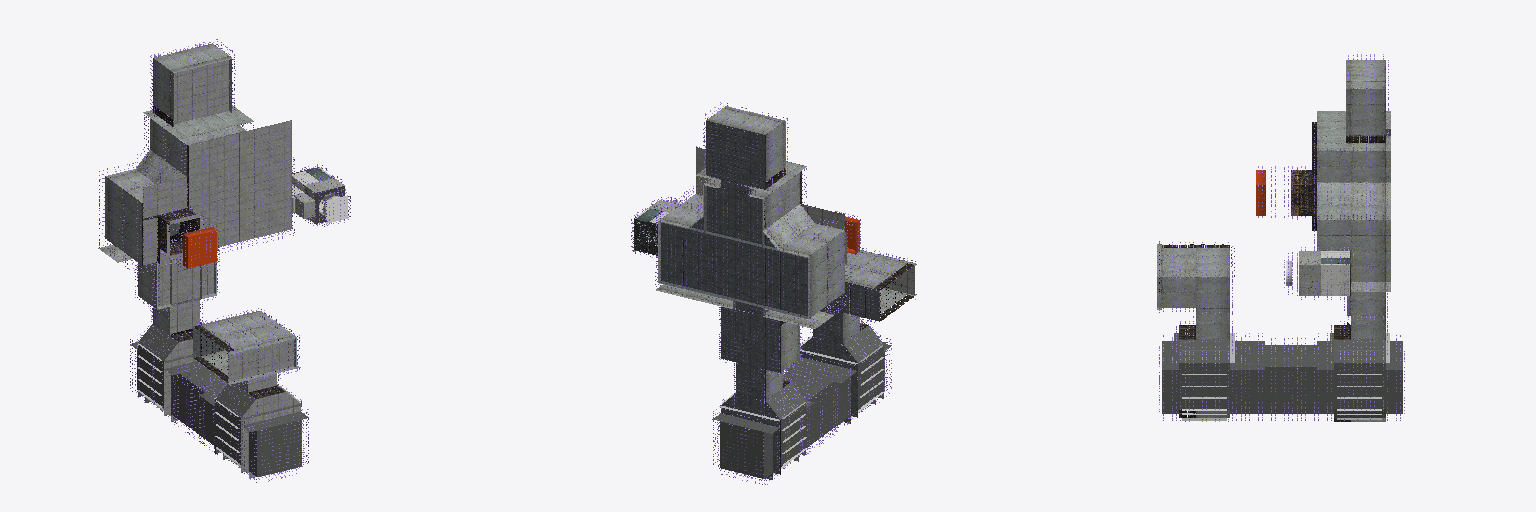
3 views of the same model, side by side, from view 1: azimuth 30°, elevation 25°; view 2: azimuth 150°, elevation 25°; view 3: azimuth 270°, elevation 25° (orthographic).
Visible parts, largest first — view 1: world.worldspawn.Brush_397, world.worldspawn.Brush_138, world.worldspawn.Brush_175, world.worldspawn.Brush_2, world.worldspawn.Brush_128, world.worldspawn.Brush_6, world.worldspawn.Brush_142, world.worldspawn.Brush_8, world.worldspawn.Brush_230, world.worldspawn.Brush_135, world.worldspawn.Brush_126, world.worldspawn.Brush_213 (+16 smaller); view 2: world.worldspawn.Brush_91, world.worldspawn.Brush_143, world.worldspawn.Brush_154, world.worldspawn.Brush_95, world.worldspawn.Brush_178, world.worldspawn.Brush_6, world.worldspawn.Brush_189, world.worldspawn.Brush_142, world.worldspawn.Brush_8, world.worldspawn.Brush_187, world.worldspawn.Brush_135, world.worldspawn.Brush_197 (+17 smaller); view 3: world.worldspawn.Brush_10, world.worldspawn.Brush_137, world.worldspawn.Brush_169, world.worldspawn.Brush_183, world.worldspawn.Brush_251, world.worldspawn.Brush_262, world.worldspawn.Brush_4, world.worldspawn.Brush_2, world.worldspawn.Brush_142, world.worldspawn.Brush_199, world.worldspawn.Brush_13, world.worldspawn.Brush_166 (+21 smaller).
Boxes of the visible parts, <box> form: world.worldspawn.Brush_397: <box>187,120,291,247</box>; world.worldspawn.Brush_138: <box>171,59,231,126</box>; world.worldspawn.Brush_175: <box>257,420,303,477</box>; world.worldspawn.Brush_2: <box>163,109,253,145</box>; world.worldspawn.Brush_128: <box>143,177,188,219</box>; world.worldspawn.Brush_6: <box>99,171,124,255</box>; world.worldspawn.Brush_142: <box>151,39,234,71</box>; world.worldspawn.Brush_8: <box>119,191,142,269</box>; world.worldspawn.Brush_230: <box>172,257,201,304</box>; world.worldspawn.Brush_135: <box>150,56,172,118</box>; world.worldspawn.Brush_126: <box>188,230,218,267</box>; world.worldspawn.Brush_213: <box>170,298,200,335</box>; world.worldspawn.Brush_91: <box>659,222,809,318</box>; world.worldspawn.Brush_143: <box>704,121,765,189</box>; world.worldspawn.Brush_154: <box>719,307,780,373</box>; world.worldspawn.Brush_95: <box>704,184,764,246</box>; world.worldspawn.Brush_178: <box>718,421,763,479</box>; world.worldspawn.Brush_6: <box>808,241,833,323</box>; world.worldspawn.Brush_189: <box>786,351,857,382</box>; world.worldspawn.Brush_142: <box>705,103,787,134</box>; world.worldspawn.Brush_8: <box>828,225,851,311</box>; world.worldspawn.Brush_187: <box>833,371,857,427</box>; world.worldspawn.Brush_135: <box>766,119,788,180</box>; world.worldspawn.Brush_197: <box>734,363,765,400</box>; world.worldspawn.Brush_10: <box>1351,215,1390,290</box>; world.worldspawn.Brush_137: <box>1346,87,1385,136</box>; world.worldspawn.Brush_169: <box>1282,367,1316,416</box>; world.worldspawn.Brush_183: <box>1230,370,1264,416</box>; world.worldspawn.Brush_251: <box>1351,363,1385,410</box>; world.worldspawn.Brush_262: <box>1196,363,1229,409</box>; world.worldspawn.Brush_4: <box>1351,148,1390,185</box>; world.worldspawn.Brush_2: <box>1317,111,1350,150</box>; world.worldspawn.Brush_142: <box>1346,54,1385,88</box>; world.worldspawn.Brush_199: <box>1196,308,1229,339</box>; world.worldspawn.Brush_13: <box>1317,148,1350,184</box>; world.worldspawn.Brush_166: <box>1162,277,1195,309</box>.
Size of the model in its own units: 880 by 1440 by 944.
Materials: 34 (32 with a texture image).